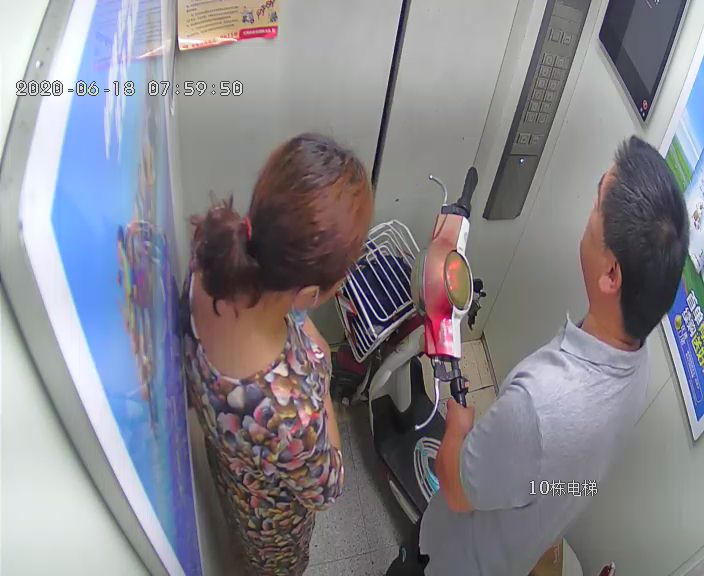Electric-bicycle: (332, 160, 616, 576)
